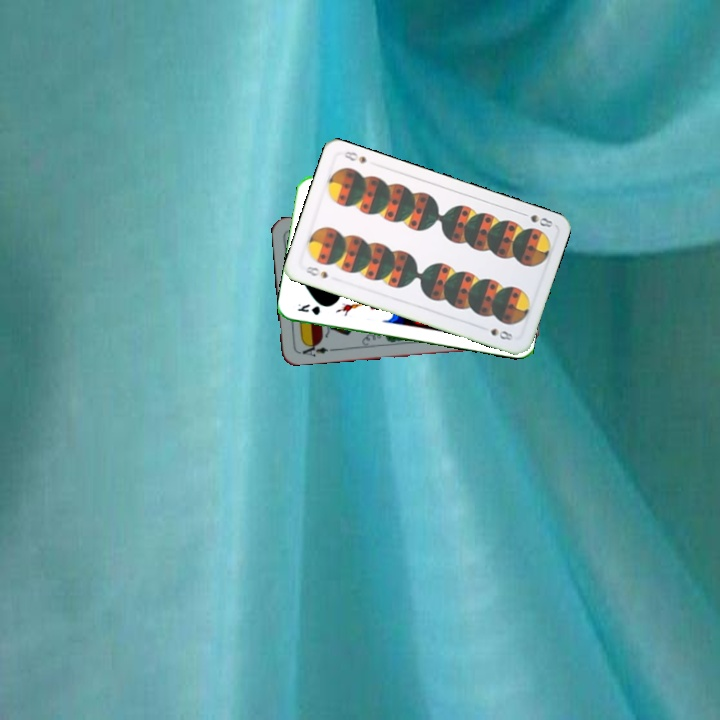EA: (298, 339, 336, 359)
GK: (293, 300, 324, 317)
S8: (516, 208, 555, 230), (298, 262, 330, 281)
